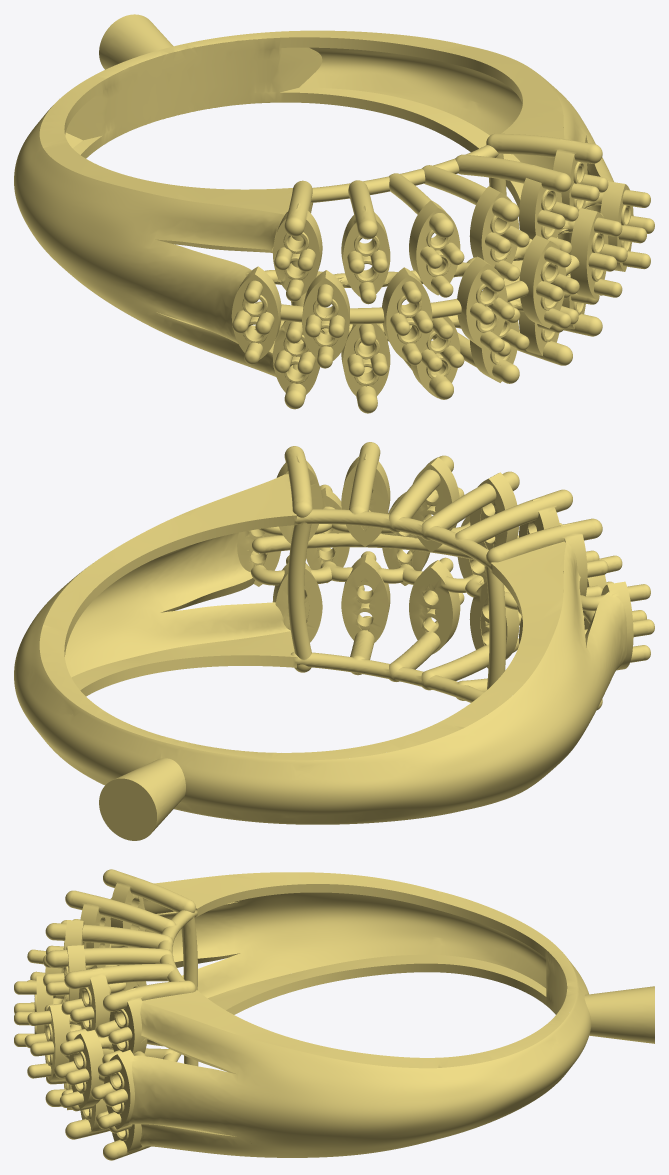
The model's file is mum_05.glb.
3 views of the same model, one above another, from view 1: azimuth 30°, elevation 25°; view 2: azimuth 150°, elevation 25°; view 3: azimuth 270°, elevation 25° (orthographic). The views are drawn at different scales.
Visible parts, largest first — view 1: Renderer Node; view 2: Renderer Node; view 3: Renderer Node.
Part boxes in pixels (box(x1,y1,x2,y2)): Renderer Node: box(14, 14, 654, 413); Renderer Node: box(14, 442, 654, 840); Renderer Node: box(14, 869, 654, 1160).
Bounding box in the file's own units: 26.64 × 9.57 × 33.61.
